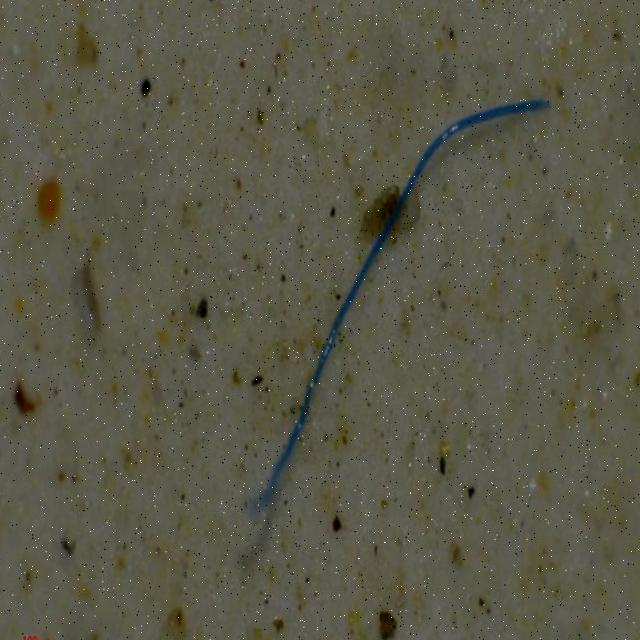Fibre: (244, 96, 550, 524)
